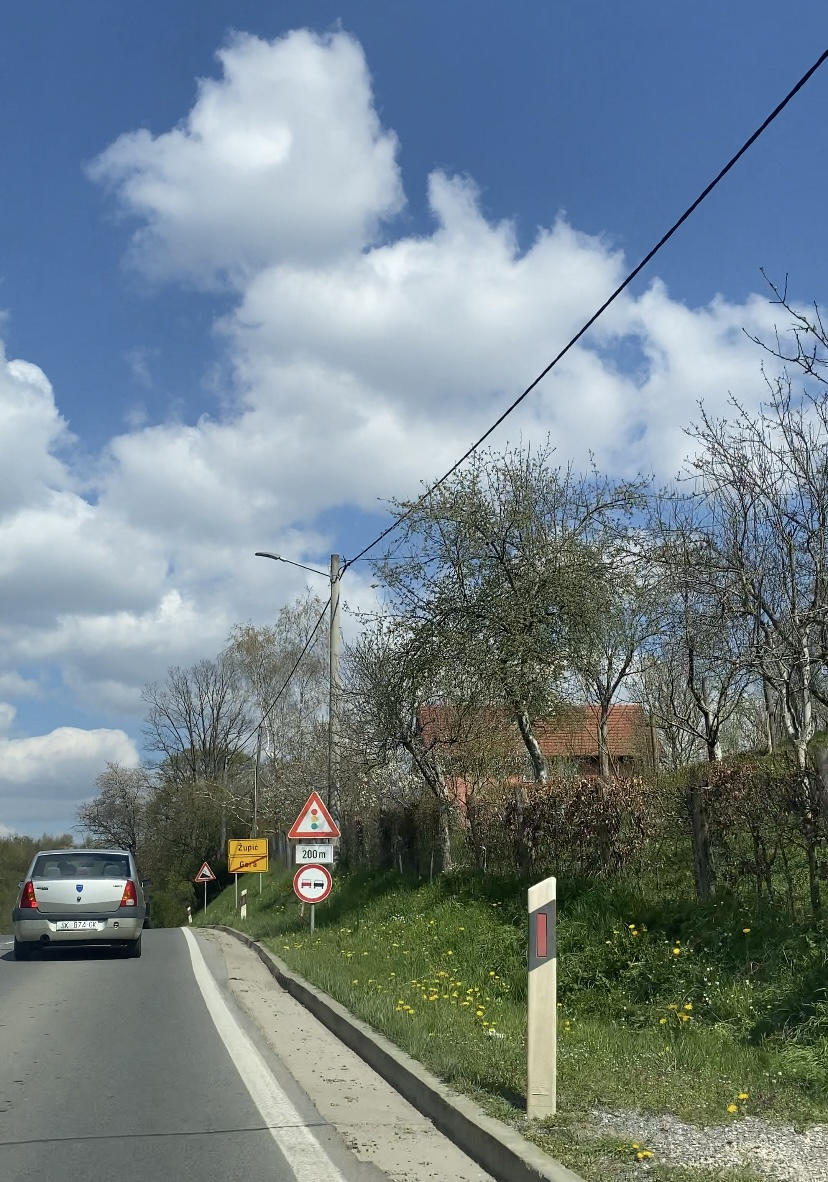Zabrana pretjecanja: (293, 864, 332, 904)
